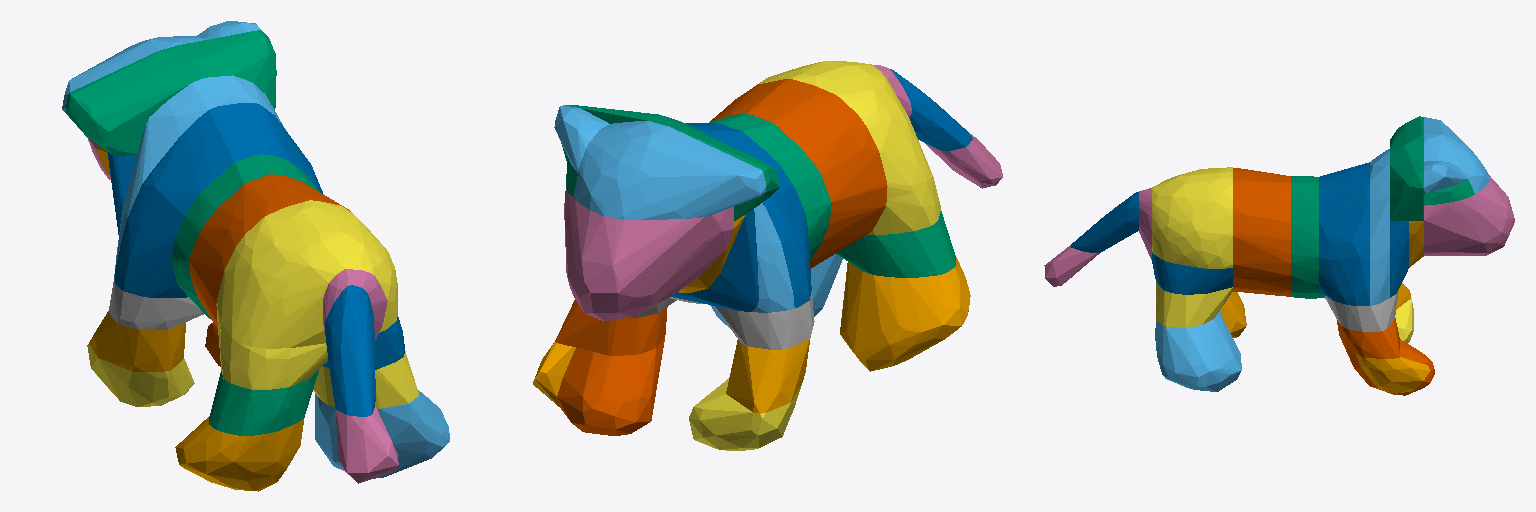
The robot description file, URDF, robot "root":
<?xml version='1.0' encoding='UTF-8'?>
<robot name="root">
  <link name="link_convex_piece_000.obj">
    <inertial>
      <origin xyz="0 0 0" rpy="0 0 0"/>
    </inertial>
    <visual>
      <origin xyz="0 0 0" rpy="0 0 0"/>
      <geometry>
        <mesh filename="meshes/convex_piece_000.obj" scale="1.0 1.0 1.0"/>
      </geometry>
    </visual>
    <collision>
      <origin xyz="0 0 0" rpy="0 0 0"/>
      <geometry>
        <mesh filename="meshes/convex_piece_000.obj" scale="1.0 1.0 1.0"/>
      </geometry>
    </collision>
  </link>
  <link name="link_convex_piece_001.obj">
    <inertial>
      <origin xyz="0 0 0" rpy="0 0 0"/>
    </inertial>
    <visual>
      <origin xyz="0 0 0" rpy="0 0 0"/>
      <geometry>
        <mesh filename="meshes/convex_piece_001.obj" scale="1.0 1.0 1.0"/>
      </geometry>
    </visual>
    <collision>
      <origin xyz="0 0 0" rpy="0 0 0"/>
      <geometry>
        <mesh filename="meshes/convex_piece_001.obj" scale="1.0 1.0 1.0"/>
      </geometry>
    </collision>
  </link>
  <link name="link_convex_piece_002.obj">
    <inertial>
      <origin xyz="0 0 0" rpy="0 0 0"/>
    </inertial>
    <visual>
      <origin xyz="0 0 0" rpy="0 0 0"/>
      <geometry>
        <mesh filename="meshes/convex_piece_002.obj" scale="1.0 1.0 1.0"/>
      </geometry>
    </visual>
    <collision>
      <origin xyz="0 0 0" rpy="0 0 0"/>
      <geometry>
        <mesh filename="meshes/convex_piece_002.obj" scale="1.0 1.0 1.0"/>
      </geometry>
    </collision>
  </link>
  <link name="link_convex_piece_003.obj">
    <inertial>
      <origin xyz="0 0 0" rpy="0 0 0"/>
    </inertial>
    <visual>
      <origin xyz="0 0 0" rpy="0 0 0"/>
      <geometry>
        <mesh filename="meshes/convex_piece_003.obj" scale="1.0 1.0 1.0"/>
      </geometry>
    </visual>
    <collision>
      <origin xyz="0 0 0" rpy="0 0 0"/>
      <geometry>
        <mesh filename="meshes/convex_piece_003.obj" scale="1.0 1.0 1.0"/>
      </geometry>
    </collision>
  </link>
  <link name="link_convex_piece_004.obj">
    <inertial>
      <origin xyz="0 0 0" rpy="0 0 0"/>
    </inertial>
    <visual>
      <origin xyz="0 0 0" rpy="0 0 0"/>
      <geometry>
        <mesh filename="meshes/convex_piece_004.obj" scale="1.0 1.0 1.0"/>
      </geometry>
    </visual>
    <collision>
      <origin xyz="0 0 0" rpy="0 0 0"/>
      <geometry>
        <mesh filename="meshes/convex_piece_004.obj" scale="1.0 1.0 1.0"/>
      </geometry>
    </collision>
  </link>
  <link name="link_convex_piece_005.obj">
    <inertial>
      <origin xyz="0 0 0" rpy="0 0 0"/>
    </inertial>
    <visual>
      <origin xyz="0 0 0" rpy="0 0 0"/>
      <geometry>
        <mesh filename="meshes/convex_piece_005.obj" scale="1.0 1.0 1.0"/>
      </geometry>
    </visual>
    <collision>
      <origin xyz="0 0 0" rpy="0 0 0"/>
      <geometry>
        <mesh filename="meshes/convex_piece_005.obj" scale="1.0 1.0 1.0"/>
      </geometry>
    </collision>
  </link>
  <link name="link_convex_piece_006.obj">
    <inertial>
      <origin xyz="0 0 0" rpy="0 0 0"/>
    </inertial>
    <visual>
      <origin xyz="0 0 0" rpy="0 0 0"/>
      <geometry>
        <mesh filename="meshes/convex_piece_006.obj" scale="1.0 1.0 1.0"/>
      </geometry>
    </visual>
    <collision>
      <origin xyz="0 0 0" rpy="0 0 0"/>
      <geometry>
        <mesh filename="meshes/convex_piece_006.obj" scale="1.0 1.0 1.0"/>
      </geometry>
    </collision>
  </link>
  <link name="link_convex_piece_007.obj">
    <inertial>
      <origin xyz="0 0 0" rpy="0 0 0"/>
    </inertial>
    <visual>
      <origin xyz="0 0 0" rpy="0 0 0"/>
      <geometry>
        <mesh filename="meshes/convex_piece_007.obj" scale="1.0 1.0 1.0"/>
      </geometry>
    </visual>
    <collision>
      <origin xyz="0 0 0" rpy="0 0 0"/>
      <geometry>
        <mesh filename="meshes/convex_piece_007.obj" scale="1.0 1.0 1.0"/>
      </geometry>
    </collision>
  </link>
  <link name="link_convex_piece_008.obj">
    <inertial>
      <origin xyz="0 0 0" rpy="0 0 0"/>
    </inertial>
    <visual>
      <origin xyz="0 0 0" rpy="0 0 0"/>
      <geometry>
        <mesh filename="meshes/convex_piece_008.obj" scale="1.0 1.0 1.0"/>
      </geometry>
    </visual>
    <collision>
      <origin xyz="0 0 0" rpy="0 0 0"/>
      <geometry>
        <mesh filename="meshes/convex_piece_008.obj" scale="1.0 1.0 1.0"/>
      </geometry>
    </collision>
  </link>
  <link name="link_convex_piece_009.obj">
    <inertial>
      <origin xyz="0 0 0" rpy="0 0 0"/>
    </inertial>
    <visual>
      <origin xyz="0 0 0" rpy="0 0 0"/>
      <geometry>
        <mesh filename="meshes/convex_piece_009.obj" scale="1.0 1.0 1.0"/>
      </geometry>
    </visual>
    <collision>
      <origin xyz="0 0 0" rpy="0 0 0"/>
      <geometry>
        <mesh filename="meshes/convex_piece_009.obj" scale="1.0 1.0 1.0"/>
      </geometry>
    </collision>
  </link>
  <link name="link_convex_piece_010.obj">
    <inertial>
      <origin xyz="0 0 0" rpy="0 0 0"/>
    </inertial>
    <visual>
      <origin xyz="0 0 0" rpy="0 0 0"/>
      <geometry>
        <mesh filename="meshes/convex_piece_010.obj" scale="1.0 1.0 1.0"/>
      </geometry>
    </visual>
    <collision>
      <origin xyz="0 0 0" rpy="0 0 0"/>
      <geometry>
        <mesh filename="meshes/convex_piece_010.obj" scale="1.0 1.0 1.0"/>
      </geometry>
    </collision>
  </link>
  <link name="link_convex_piece_011.obj">
    <inertial>
      <origin xyz="0 0 0" rpy="0 0 0"/>
    </inertial>
    <visual>
      <origin xyz="0 0 0" rpy="0 0 0"/>
      <geometry>
        <mesh filename="meshes/convex_piece_011.obj" scale="1.0 1.0 1.0"/>
      </geometry>
    </visual>
    <collision>
      <origin xyz="0 0 0" rpy="0 0 0"/>
      <geometry>
        <mesh filename="meshes/convex_piece_011.obj" scale="1.0 1.0 1.0"/>
      </geometry>
    </collision>
  </link>
  <link name="link_convex_piece_012.obj">
    <inertial>
      <origin xyz="0 0 0" rpy="0 0 0"/>
    </inertial>
    <visual>
      <origin xyz="0 0 0" rpy="0 0 0"/>
      <geometry>
        <mesh filename="meshes/convex_piece_012.obj" scale="1.0 1.0 1.0"/>
      </geometry>
    </visual>
    <collision>
      <origin xyz="0 0 0" rpy="0 0 0"/>
      <geometry>
        <mesh filename="meshes/convex_piece_012.obj" scale="1.0 1.0 1.0"/>
      </geometry>
    </collision>
  </link>
  <link name="link_convex_piece_013.obj">
    <inertial>
      <origin xyz="0 0 0" rpy="0 0 0"/>
    </inertial>
    <visual>
      <origin xyz="0 0 0" rpy="0 0 0"/>
      <geometry>
        <mesh filename="meshes/convex_piece_013.obj" scale="1.0 1.0 1.0"/>
      </geometry>
    </visual>
    <collision>
      <origin xyz="0 0 0" rpy="0 0 0"/>
      <geometry>
        <mesh filename="meshes/convex_piece_013.obj" scale="1.0 1.0 1.0"/>
      </geometry>
    </collision>
  </link>
  <link name="link_convex_piece_014.obj">
    <inertial>
      <origin xyz="0 0 0" rpy="0 0 0"/>
    </inertial>
    <visual>
      <origin xyz="0 0 0" rpy="0 0 0"/>
      <geometry>
        <mesh filename="meshes/convex_piece_014.obj" scale="1.0 1.0 1.0"/>
      </geometry>
    </visual>
    <collision>
      <origin xyz="0 0 0" rpy="0 0 0"/>
      <geometry>
        <mesh filename="meshes/convex_piece_014.obj" scale="1.0 1.0 1.0"/>
      </geometry>
    </collision>
  </link>
  <link name="link_convex_piece_015.obj">
    <inertial>
      <origin xyz="0 0 0" rpy="0 0 0"/>
    </inertial>
    <visual>
      <origin xyz="0 0 0" rpy="0 0 0"/>
      <geometry>
        <mesh filename="meshes/convex_piece_015.obj" scale="1.0 1.0 1.0"/>
      </geometry>
    </visual>
    <collision>
      <origin xyz="0 0 0" rpy="0 0 0"/>
      <geometry>
        <mesh filename="meshes/convex_piece_015.obj" scale="1.0 1.0 1.0"/>
      </geometry>
    </collision>
  </link>
  <link name="link_convex_piece_016.obj">
    <inertial>
      <origin xyz="0 0 0" rpy="0 0 0"/>
    </inertial>
    <visual>
      <origin xyz="0 0 0" rpy="0 0 0"/>
      <geometry>
        <mesh filename="meshes/convex_piece_016.obj" scale="1.0 1.0 1.0"/>
      </geometry>
    </visual>
    <collision>
      <origin xyz="0 0 0" rpy="0 0 0"/>
      <geometry>
        <mesh filename="meshes/convex_piece_016.obj" scale="1.0 1.0 1.0"/>
      </geometry>
    </collision>
  </link>
  <link name="link_convex_piece_017.obj">
    <inertial>
      <origin xyz="0 0 0" rpy="0 0 0"/>
    </inertial>
    <visual>
      <origin xyz="0 0 0" rpy="0 0 0"/>
      <geometry>
        <mesh filename="meshes/convex_piece_017.obj" scale="1.0 1.0 1.0"/>
      </geometry>
    </visual>
    <collision>
      <origin xyz="0 0 0" rpy="0 0 0"/>
      <geometry>
        <mesh filename="meshes/convex_piece_017.obj" scale="1.0 1.0 1.0"/>
      </geometry>
    </collision>
  </link>
  <link name="link_convex_piece_018.obj">
    <inertial>
      <origin xyz="0 0 0" rpy="0 0 0"/>
    </inertial>
    <visual>
      <origin xyz="0 0 0" rpy="0 0 0"/>
      <geometry>
        <mesh filename="meshes/convex_piece_018.obj" scale="1.0 1.0 1.0"/>
      </geometry>
    </visual>
    <collision>
      <origin xyz="0 0 0" rpy="0 0 0"/>
      <geometry>
        <mesh filename="meshes/convex_piece_018.obj" scale="1.0 1.0 1.0"/>
      </geometry>
    </collision>
  </link>
  <link name="link_convex_piece_019.obj">
    <inertial>
      <origin xyz="0 0 0" rpy="0 0 0"/>
    </inertial>
    <visual>
      <origin xyz="0 0 0" rpy="0 0 0"/>
      <geometry>
        <mesh filename="meshes/convex_piece_019.obj" scale="1.0 1.0 1.0"/>
      </geometry>
    </visual>
    <collision>
      <origin xyz="0 0 0" rpy="0 0 0"/>
      <geometry>
        <mesh filename="meshes/convex_piece_019.obj" scale="1.0 1.0 1.0"/>
      </geometry>
    </collision>
  </link>
  <link name="link_convex_piece_020.obj">
    <inertial>
      <origin xyz="0 0 0" rpy="0 0 0"/>
    </inertial>
    <visual>
      <origin xyz="0 0 0" rpy="0 0 0"/>
      <geometry>
        <mesh filename="meshes/convex_piece_020.obj" scale="1.0 1.0 1.0"/>
      </geometry>
    </visual>
    <collision>
      <origin xyz="0 0 0" rpy="0 0 0"/>
      <geometry>
        <mesh filename="meshes/convex_piece_020.obj" scale="1.0 1.0 1.0"/>
      </geometry>
    </collision>
  </link>
  <link name="link_convex_piece_021.obj">
    <inertial>
      <origin xyz="0 0 0" rpy="0 0 0"/>
    </inertial>
    <visual>
      <origin xyz="0 0 0" rpy="0 0 0"/>
      <geometry>
        <mesh filename="meshes/convex_piece_021.obj" scale="1.0 1.0 1.0"/>
      </geometry>
    </visual>
    <collision>
      <origin xyz="0 0 0" rpy="0 0 0"/>
      <geometry>
        <mesh filename="meshes/convex_piece_021.obj" scale="1.0 1.0 1.0"/>
      </geometry>
    </collision>
  </link>
  <link name="link_convex_piece_022.obj">
    <inertial>
      <origin xyz="0 0 0" rpy="0 0 0"/>
    </inertial>
    <visual>
      <origin xyz="0 0 0" rpy="0 0 0"/>
      <geometry>
        <mesh filename="meshes/convex_piece_022.obj" scale="1.0 1.0 1.0"/>
      </geometry>
    </visual>
    <collision>
      <origin xyz="0 0 0" rpy="0 0 0"/>
      <geometry>
        <mesh filename="meshes/convex_piece_022.obj" scale="1.0 1.0 1.0"/>
      </geometry>
    </collision>
  </link>
  <link name="link_convex_piece_023.obj">
    <inertial>
      <origin xyz="0 0 0" rpy="0 0 0"/>
    </inertial>
    <visual>
      <origin xyz="0 0 0" rpy="0 0 0"/>
      <geometry>
        <mesh filename="meshes/convex_piece_023.obj" scale="1.0 1.0 1.0"/>
      </geometry>
    </visual>
    <collision>
      <origin xyz="0 0 0" rpy="0 0 0"/>
      <geometry>
        <mesh filename="meshes/convex_piece_023.obj" scale="1.0 1.0 1.0"/>
      </geometry>
    </collision>
  </link>
  <link name="link_convex_piece_024.obj">
    <inertial>
      <origin xyz="0 0 0" rpy="0 0 0"/>
    </inertial>
    <visual>
      <origin xyz="0 0 0" rpy="0 0 0"/>
      <geometry>
        <mesh filename="meshes/convex_piece_024.obj" scale="1.0 1.0 1.0"/>
      </geometry>
    </visual>
    <collision>
      <origin xyz="0 0 0" rpy="0 0 0"/>
      <geometry>
        <mesh filename="meshes/convex_piece_024.obj" scale="1.0 1.0 1.0"/>
      </geometry>
    </collision>
  </link>
  <link name="link_convex_piece_025.obj">
    <inertial>
      <origin xyz="0 0 0" rpy="0 0 0"/>
    </inertial>
    <visual>
      <origin xyz="0 0 0" rpy="0 0 0"/>
      <geometry>
        <mesh filename="meshes/convex_piece_025.obj" scale="1.0 1.0 1.0"/>
      </geometry>
    </visual>
    <collision>
      <origin xyz="0 0 0" rpy="0 0 0"/>
      <geometry>
        <mesh filename="meshes/convex_piece_025.obj" scale="1.0 1.0 1.0"/>
      </geometry>
    </collision>
  </link>
  <link name="link_convex_piece_026.obj">
    <inertial>
      <origin xyz="0 0 0" rpy="0 0 0"/>
    </inertial>
    <visual>
      <origin xyz="0 0 0" rpy="0 0 0"/>
      <geometry>
        <mesh filename="meshes/convex_piece_026.obj" scale="1.0 1.0 1.0"/>
      </geometry>
    </visual>
    <collision>
      <origin xyz="0 0 0" rpy="0 0 0"/>
      <geometry>
        <mesh filename="meshes/convex_piece_026.obj" scale="1.0 1.0 1.0"/>
      </geometry>
    </collision>
  </link>
  <link name="link_convex_piece_027.obj">
    <inertial>
      <origin xyz="0 0 0" rpy="0 0 0"/>
    </inertial>
    <visual>
      <origin xyz="0 0 0" rpy="0 0 0"/>
      <geometry>
        <mesh filename="meshes/convex_piece_027.obj" scale="1.0 1.0 1.0"/>
      </geometry>
    </visual>
    <collision>
      <origin xyz="0 0 0" rpy="0 0 0"/>
      <geometry>
        <mesh filename="meshes/convex_piece_027.obj" scale="1.0 1.0 1.0"/>
      </geometry>
    </collision>
  </link>
  <link name="link_convex_piece_028.obj">
    <inertial>
      <origin xyz="0 0 0" rpy="0 0 0"/>
    </inertial>
    <visual>
      <origin xyz="0 0 0" rpy="0 0 0"/>
      <geometry>
        <mesh filename="meshes/convex_piece_028.obj" scale="1.0 1.0 1.0"/>
      </geometry>
    </visual>
    <collision>
      <origin xyz="0 0 0" rpy="0 0 0"/>
      <geometry>
        <mesh filename="meshes/convex_piece_028.obj" scale="1.0 1.0 1.0"/>
      </geometry>
    </collision>
  </link>
  <link name="link_convex_piece_029.obj">
    <inertial>
      <origin xyz="0 0 0" rpy="0 0 0"/>
    </inertial>
    <visual>
      <origin xyz="0 0 0" rpy="0 0 0"/>
      <geometry>
        <mesh filename="meshes/convex_piece_029.obj" scale="1.0 1.0 1.0"/>
      </geometry>
    </visual>
    <collision>
      <origin xyz="0 0 0" rpy="0 0 0"/>
      <geometry>
        <mesh filename="meshes/convex_piece_029.obj" scale="1.0 1.0 1.0"/>
      </geometry>
    </collision>
  </link>
  <joint name="link_convex_piece_001.obj_joint" type="fixed">
    <origin xyz="0 0 0" rpy="0 0 0"/>
    <parent link="link_convex_piece_000.obj"/>
    <child link="link_convex_piece_001.obj"/>
  </joint>
  <joint name="link_convex_piece_002.obj_joint" type="fixed">
    <origin xyz="0 0 0" rpy="0 0 0"/>
    <parent link="link_convex_piece_000.obj"/>
    <child link="link_convex_piece_002.obj"/>
  </joint>
  <joint name="link_convex_piece_003.obj_joint" type="fixed">
    <origin xyz="0 0 0" rpy="0 0 0"/>
    <parent link="link_convex_piece_000.obj"/>
    <child link="link_convex_piece_003.obj"/>
  </joint>
  <joint name="link_convex_piece_004.obj_joint" type="fixed">
    <origin xyz="0 0 0" rpy="0 0 0"/>
    <parent link="link_convex_piece_000.obj"/>
    <child link="link_convex_piece_004.obj"/>
  </joint>
  <joint name="link_convex_piece_005.obj_joint" type="fixed">
    <origin xyz="0 0 0" rpy="0 0 0"/>
    <parent link="link_convex_piece_000.obj"/>
    <child link="link_convex_piece_005.obj"/>
  </joint>
  <joint name="link_convex_piece_006.obj_joint" type="fixed">
    <origin xyz="0 0 0" rpy="0 0 0"/>
    <parent link="link_convex_piece_000.obj"/>
    <child link="link_convex_piece_006.obj"/>
  </joint>
  <joint name="link_convex_piece_007.obj_joint" type="fixed">
    <origin xyz="0 0 0" rpy="0 0 0"/>
    <parent link="link_convex_piece_000.obj"/>
    <child link="link_convex_piece_007.obj"/>
  </joint>
  <joint name="link_convex_piece_008.obj_joint" type="fixed">
    <origin xyz="0 0 0" rpy="0 0 0"/>
    <parent link="link_convex_piece_000.obj"/>
    <child link="link_convex_piece_008.obj"/>
  </joint>
  <joint name="link_convex_piece_009.obj_joint" type="fixed">
    <origin xyz="0 0 0" rpy="0 0 0"/>
    <parent link="link_convex_piece_000.obj"/>
    <child link="link_convex_piece_009.obj"/>
  </joint>
  <joint name="link_convex_piece_010.obj_joint" type="fixed">
    <origin xyz="0 0 0" rpy="0 0 0"/>
    <parent link="link_convex_piece_000.obj"/>
    <child link="link_convex_piece_010.obj"/>
  </joint>
  <joint name="link_convex_piece_011.obj_joint" type="fixed">
    <origin xyz="0 0 0" rpy="0 0 0"/>
    <parent link="link_convex_piece_000.obj"/>
    <child link="link_convex_piece_011.obj"/>
  </joint>
  <joint name="link_convex_piece_012.obj_joint" type="fixed">
    <origin xyz="0 0 0" rpy="0 0 0"/>
    <parent link="link_convex_piece_000.obj"/>
    <child link="link_convex_piece_012.obj"/>
  </joint>
  <joint name="link_convex_piece_013.obj_joint" type="fixed">
    <origin xyz="0 0 0" rpy="0 0 0"/>
    <parent link="link_convex_piece_000.obj"/>
    <child link="link_convex_piece_013.obj"/>
  </joint>
  <joint name="link_convex_piece_014.obj_joint" type="fixed">
    <origin xyz="0 0 0" rpy="0 0 0"/>
    <parent link="link_convex_piece_000.obj"/>
    <child link="link_convex_piece_014.obj"/>
  </joint>
  <joint name="link_convex_piece_015.obj_joint" type="fixed">
    <origin xyz="0 0 0" rpy="0 0 0"/>
    <parent link="link_convex_piece_000.obj"/>
    <child link="link_convex_piece_015.obj"/>
  </joint>
  <joint name="link_convex_piece_016.obj_joint" type="fixed">
    <origin xyz="0 0 0" rpy="0 0 0"/>
    <parent link="link_convex_piece_000.obj"/>
    <child link="link_convex_piece_016.obj"/>
  </joint>
  <joint name="link_convex_piece_017.obj_joint" type="fixed">
    <origin xyz="0 0 0" rpy="0 0 0"/>
    <parent link="link_convex_piece_000.obj"/>
    <child link="link_convex_piece_017.obj"/>
  </joint>
  <joint name="link_convex_piece_018.obj_joint" type="fixed">
    <origin xyz="0 0 0" rpy="0 0 0"/>
    <parent link="link_convex_piece_000.obj"/>
    <child link="link_convex_piece_018.obj"/>
  </joint>
  <joint name="link_convex_piece_019.obj_joint" type="fixed">
    <origin xyz="0 0 0" rpy="0 0 0"/>
    <parent link="link_convex_piece_000.obj"/>
    <child link="link_convex_piece_019.obj"/>
  </joint>
  <joint name="link_convex_piece_020.obj_joint" type="fixed">
    <origin xyz="0 0 0" rpy="0 0 0"/>
    <parent link="link_convex_piece_000.obj"/>
    <child link="link_convex_piece_020.obj"/>
  </joint>
  <joint name="link_convex_piece_021.obj_joint" type="fixed">
    <origin xyz="0 0 0" rpy="0 0 0"/>
    <parent link="link_convex_piece_000.obj"/>
    <child link="link_convex_piece_021.obj"/>
  </joint>
  <joint name="link_convex_piece_022.obj_joint" type="fixed">
    <origin xyz="0 0 0" rpy="0 0 0"/>
    <parent link="link_convex_piece_000.obj"/>
    <child link="link_convex_piece_022.obj"/>
  </joint>
  <joint name="link_convex_piece_023.obj_joint" type="fixed">
    <origin xyz="0 0 0" rpy="0 0 0"/>
    <parent link="link_convex_piece_000.obj"/>
    <child link="link_convex_piece_023.obj"/>
  </joint>
  <joint name="link_convex_piece_024.obj_joint" type="fixed">
    <origin xyz="0 0 0" rpy="0 0 0"/>
    <parent link="link_convex_piece_000.obj"/>
    <child link="link_convex_piece_024.obj"/>
  </joint>
  <joint name="link_convex_piece_025.obj_joint" type="fixed">
    <origin xyz="0 0 0" rpy="0 0 0"/>
    <parent link="link_convex_piece_000.obj"/>
    <child link="link_convex_piece_025.obj"/>
  </joint>
  <joint name="link_convex_piece_026.obj_joint" type="fixed">
    <origin xyz="0 0 0" rpy="0 0 0"/>
    <parent link="link_convex_piece_000.obj"/>
    <child link="link_convex_piece_026.obj"/>
  </joint>
  <joint name="link_convex_piece_027.obj_joint" type="fixed">
    <origin xyz="0 0 0" rpy="0 0 0"/>
    <parent link="link_convex_piece_000.obj"/>
    <child link="link_convex_piece_027.obj"/>
  </joint>
  <joint name="link_convex_piece_028.obj_joint" type="fixed">
    <origin xyz="0 0 0" rpy="0 0 0"/>
    <parent link="link_convex_piece_000.obj"/>
    <child link="link_convex_piece_028.obj"/>
  </joint>
  <joint name="link_convex_piece_029.obj_joint" type="fixed">
    <origin xyz="0 0 0" rpy="0 0 0"/>
    <parent link="link_convex_piece_000.obj"/>
    <child link="link_convex_piece_029.obj"/>
  </joint>
</robot>

--- What the picture shows (computed from the rendered views, not written in the file) ---
The picture shows the robot from 3 angles, left to right: view 1: azimuth 30°, elevation 25°; view 2: azimuth 150°, elevation 25°; view 3: azimuth 270°, elevation 25°; orthographic projection.
Robot: root — 30 links, 29 joints (29 fixed); root link link_convex_piece_000.obj; default pose: all joints at 0.
Visible links, largest first — view 1: link_convex_piece_027.obj, link_convex_piece_012.obj, link_convex_piece_010.obj, link_convex_piece_005.obj, link_convex_piece_000.obj, link_convex_piece_004.obj, link_convex_piece_009.obj, link_convex_piece_001.obj, link_convex_piece_018.obj, link_convex_piece_002.obj, link_convex_piece_003.obj, link_convex_piece_008.obj (+9 smaller); view 2: link_convex_piece_017.obj, link_convex_piece_014.obj, link_convex_piece_005.obj, link_convex_piece_000.obj, link_convex_piece_027.obj, link_convex_piece_021.obj, link_convex_piece_018.obj, link_convex_piece_012.obj, link_convex_piece_008.obj, link_convex_piece_011.obj, link_convex_piece_002.obj, link_convex_piece_013.obj (+11 smaller); view 3: link_convex_piece_027.obj, link_convex_piece_005.obj, link_convex_piece_012.obj, link_convex_piece_014.obj, link_convex_piece_001.obj, link_convex_piece_002.obj, link_convex_piece_010.obj, link_convex_piece_009.obj, link_convex_piece_017.obj, link_convex_piece_019.obj, link_convex_piece_028.obj, link_convex_piece_004.obj (+12 smaller).
Boxes of the visible links, bbox=[...] form: link_convex_piece_027.obj: bbox=[216, 200, 397, 348]; link_convex_piece_012.obj: bbox=[114, 103, 322, 297]; link_convex_piece_010.obj: bbox=[66, 30, 276, 155]; link_convex_piece_005.obj: bbox=[189, 174, 350, 327]; link_convex_piece_000.obj: bbox=[175, 416, 303, 491]; link_convex_piece_004.obj: bbox=[325, 285, 375, 416]; link_convex_piece_009.obj: bbox=[114, 75, 285, 280]; link_convex_piece_001.obj: bbox=[315, 390, 449, 478]; link_convex_piece_018.obj: bbox=[209, 370, 318, 435]; link_convex_piece_002.obj: bbox=[172, 154, 319, 318]; link_convex_piece_003.obj: bbox=[217, 319, 327, 389]; link_convex_piece_008.obj: bbox=[89, 311, 185, 371]; link_convex_piece_017.obj: bbox=[573, 121, 766, 219]; link_convex_piece_014.obj: bbox=[564, 188, 733, 320]; link_convex_piece_005.obj: bbox=[710, 79, 887, 268]; link_convex_piece_000.obj: bbox=[840, 255, 970, 371]; link_convex_piece_027.obj: bbox=[754, 61, 930, 199]; link_convex_piece_021.obj: bbox=[557, 338, 664, 435]; link_convex_piece_018.obj: bbox=[836, 211, 955, 277]; link_convex_piece_012.obj: bbox=[686, 123, 811, 307]; link_convex_piece_008.obj: bbox=[726, 337, 810, 413]; link_convex_piece_011.obj: bbox=[689, 379, 802, 450]; link_convex_piece_002.obj: bbox=[709, 114, 831, 260]; link_convex_piece_013.obj: bbox=[555, 300, 667, 355]; link_convex_piece_027.obj: bbox=[1152, 167, 1232, 268]; link_convex_piece_005.obj: bbox=[1233, 168, 1290, 296]; link_convex_piece_012.obj: bbox=[1319, 162, 1369, 305]; link_convex_piece_014.obj: bbox=[1424, 175, 1514, 255]; link_convex_piece_001.obj: bbox=[1155, 311, 1241, 391]; link_convex_piece_002.obj: bbox=[1291, 176, 1324, 298]; link_convex_piece_010.obj: bbox=[1390, 116, 1423, 220]; link_convex_piece_009.obj: bbox=[1370, 149, 1389, 305]; link_convex_piece_017.obj: bbox=[1424, 117, 1489, 193]; link_convex_piece_019.obj: bbox=[1156, 281, 1232, 327]; link_convex_piece_028.obj: bbox=[1152, 252, 1232, 294]; link_convex_piece_004.obj: bbox=[1071, 192, 1138, 252].
Size in the robot's own frame: 0.1198 by 0.2571 by 0.1393 metres.
Meshes: 30 distinct files referenced, 29 mesh visuals loaded (29 OBJ); not drawn: 1 (reference not matched to a file when rendering).
